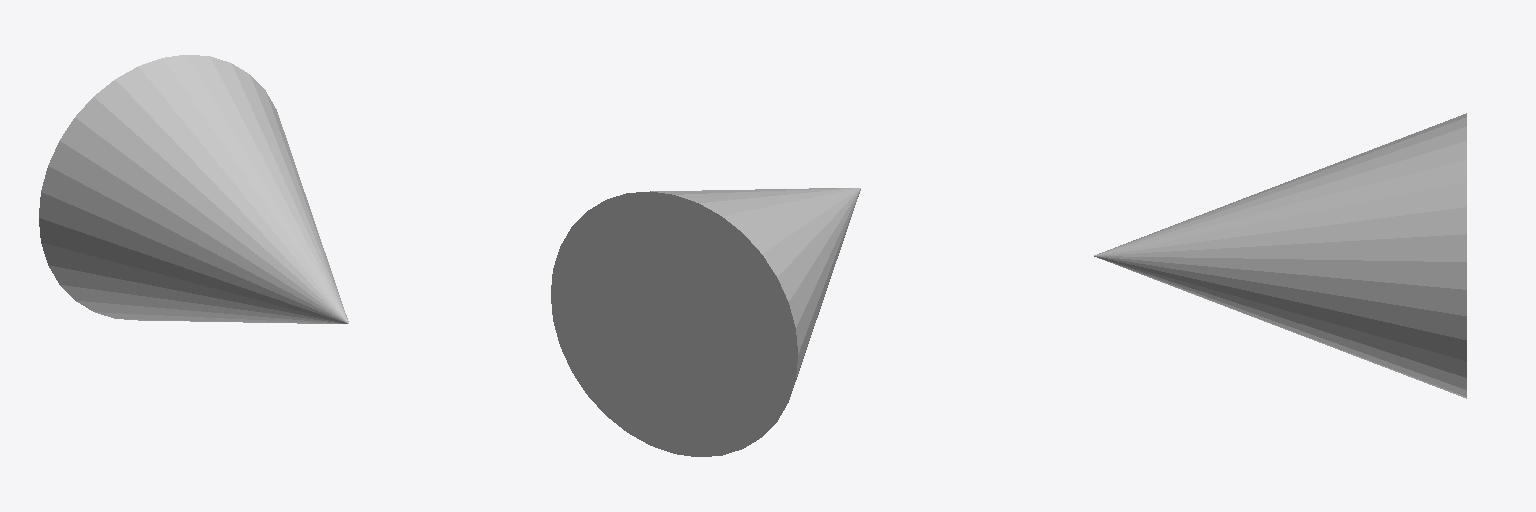
File: point.obj
The picture shows the model from 3 angles: view 1: azimuth 30°, elevation 25°; view 2: azimuth 150°, elevation 25°; view 3: azimuth 270°, elevation 25°; orthographic projection.
Visible parts, largest first — view 1: Point; view 2: Point; view 3: Point.
Boxes of the visible parts, <box> form: Point: <box>39,55,348,323</box>; Point: <box>551,188,860,456</box>; Point: <box>1094,113,1466,398</box>.
Bounding box in the file's own units: 10.76 × 10.76 × 14.08.